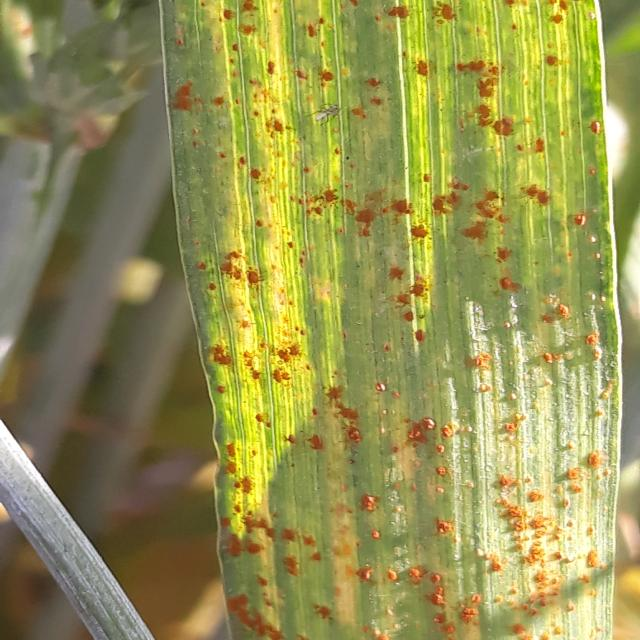orang_rust: (135, 3, 629, 640)
